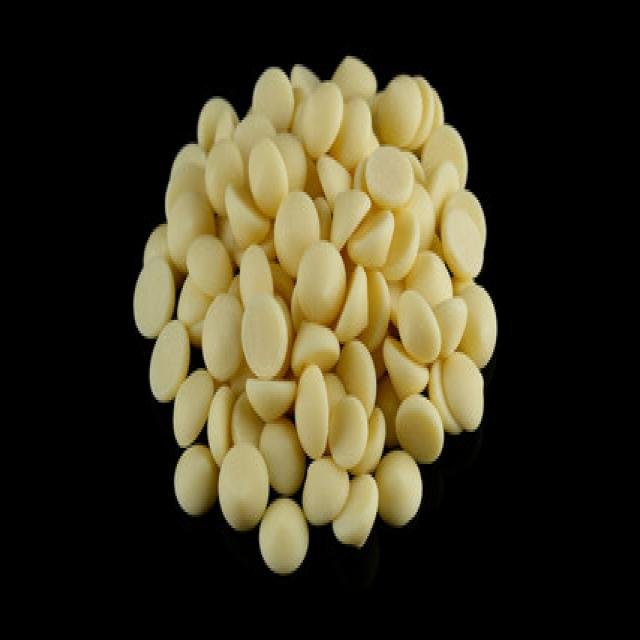Chocolate: (129, 48, 504, 580)
